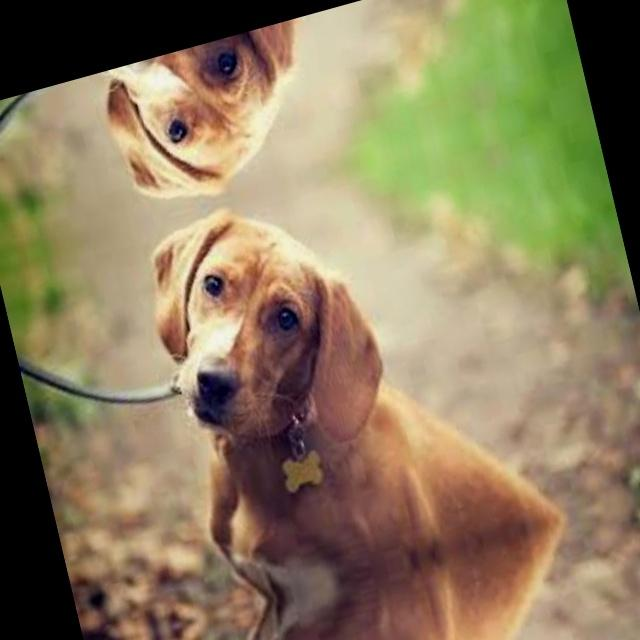dog: (116, 144, 541, 616), (78, 0, 448, 223), (204, 524, 576, 640)
